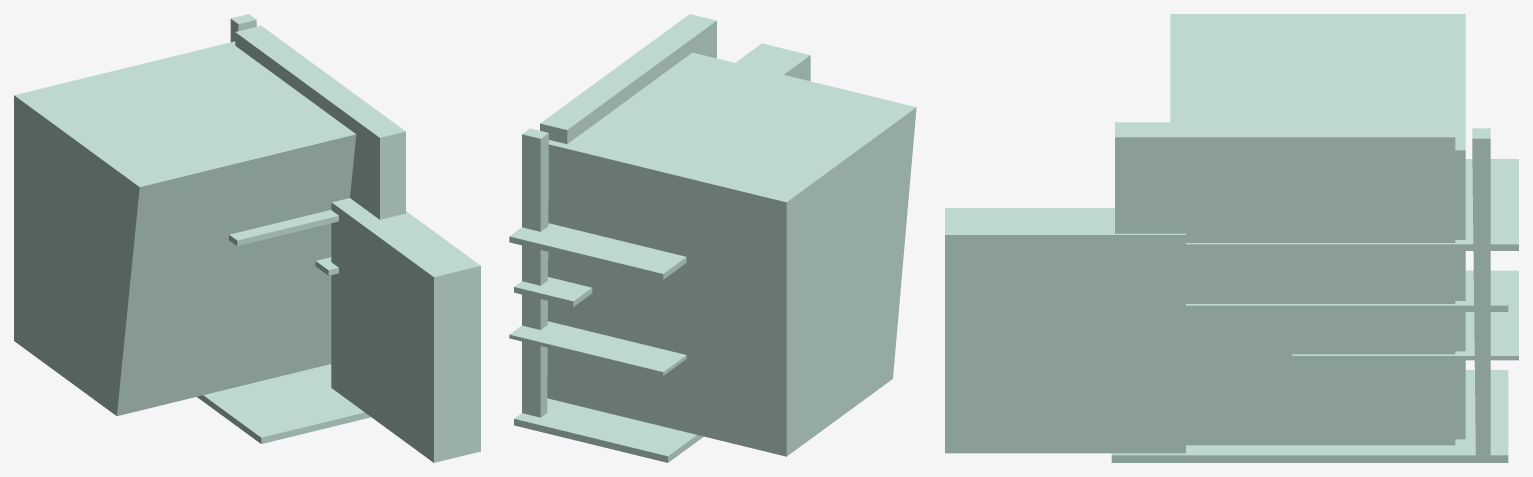
3 renders of one model, left to right at view 1: azimuth 30°, elevation 25°; view 2: azimuth 150°, elevation 25°; view 3: azimuth 270°, elevation 25°, orthographic. The views are drawn at different scales.
Parts seen in each view (by area): view 1: Renderer Node; view 2: Renderer Node; view 3: Renderer Node.
Boxes of the visible parts, x1,y1,x2,y2 form: Renderer Node: [14, 14, 480, 462]; Renderer Node: [509, 14, 916, 462]; Renderer Node: [945, 14, 1518, 462].
Bounding box in the file's own units: 0.7344 × 0.7891 × 1.27.
